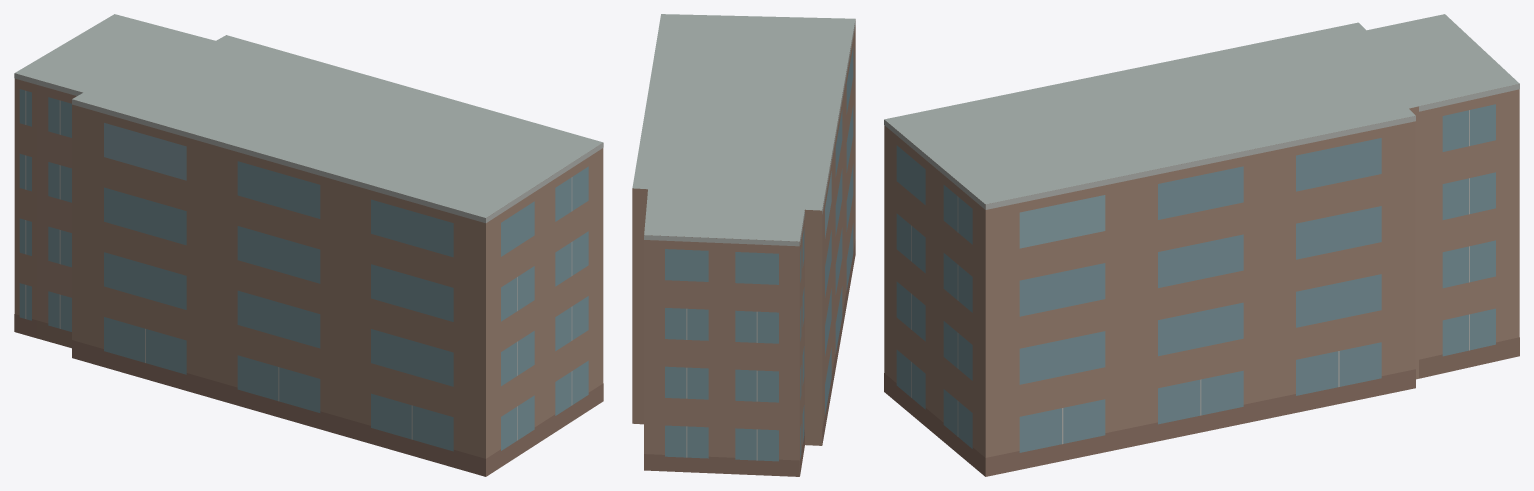
The model's file is survey-upis-32641289.glb.
3 renders of one model, left to right at view 1: azimuth 30°, elevation 25°; view 2: azimuth 150°, elevation 25°; view 3: azimuth 270°, elevation 25°, orthographic. The views are drawn at different scales.
Visible parts, largest first — view 1: survey-upis-32641289.tmp; view 2: survey-upis-32641289.tmp; view 3: survey-upis-32641289.tmp.
Part boxes in pixels (<box>): survey-upis-32641289.tmp: <box>14,14,603,476</box>; survey-upis-32641289.tmp: <box>632,14,855,476</box>; survey-upis-32641289.tmp: <box>884,14,1519,476</box>.
Bounding box in the file's own units: 18 × 12 × 25.39.
